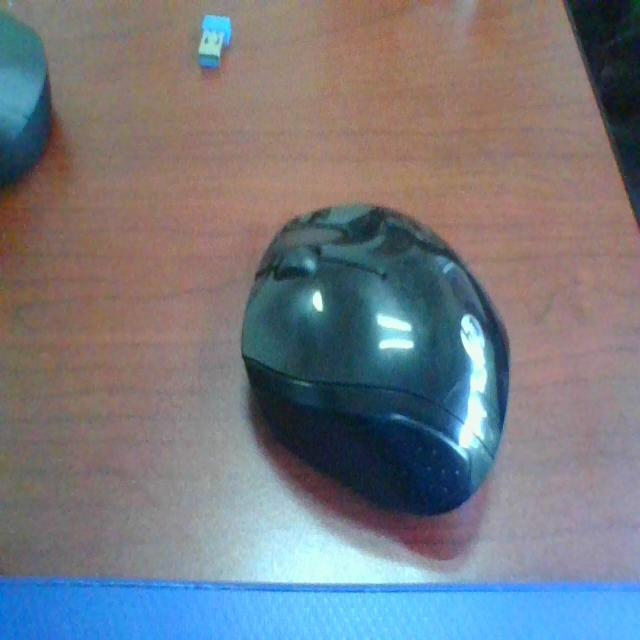mouse: (239, 176, 564, 556)
